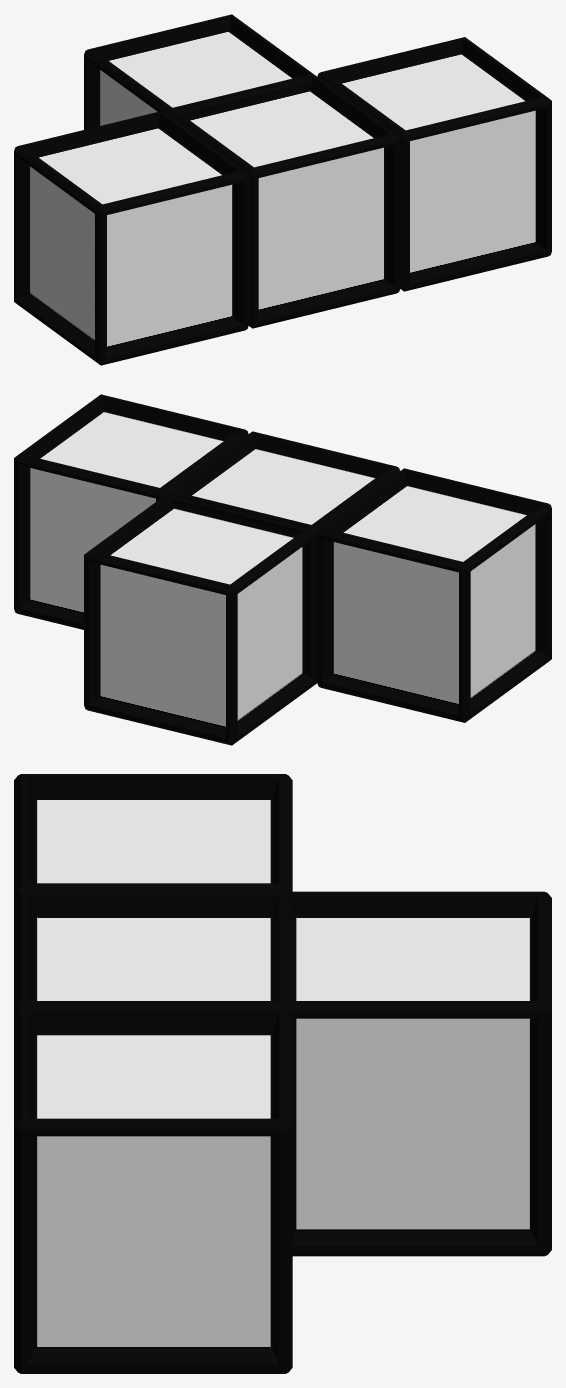
The model's file is Enemy 1.fbx.
3 renders of one model, top to bottom at view 1: azimuth 30°, elevation 25°; view 2: azimuth 150°, elevation 25°; view 3: azimuth 270°, elevation 25°, orthographic. The views are drawn at different scales.
Visible parts, largest first — view 1: Enemy 1; view 2: Enemy 1; view 3: Enemy 1.
Part boxes in pixels (x1,y1,x2,y2): Enemy 1: [14, 14, 551, 365]; Enemy 1: [14, 394, 551, 745]; Enemy 1: [14, 774, 551, 1373].
Size of the model in its own units: 600 by 200 by 386.
